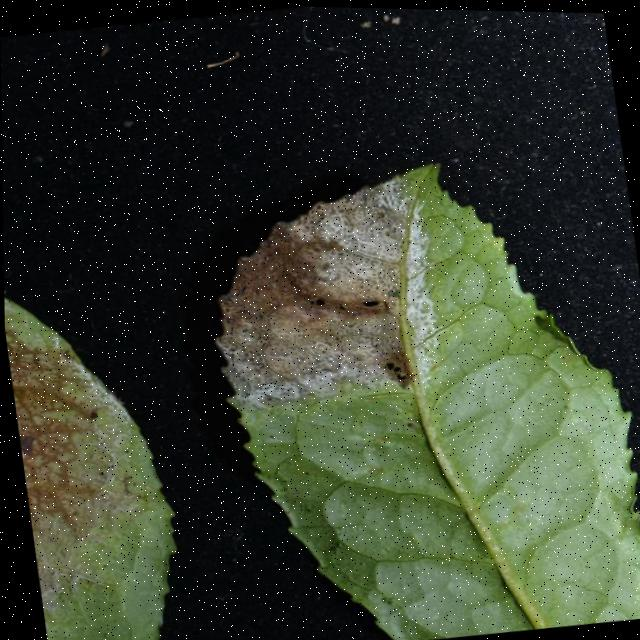Tea exobasidium blight: (192, 166, 456, 424)
